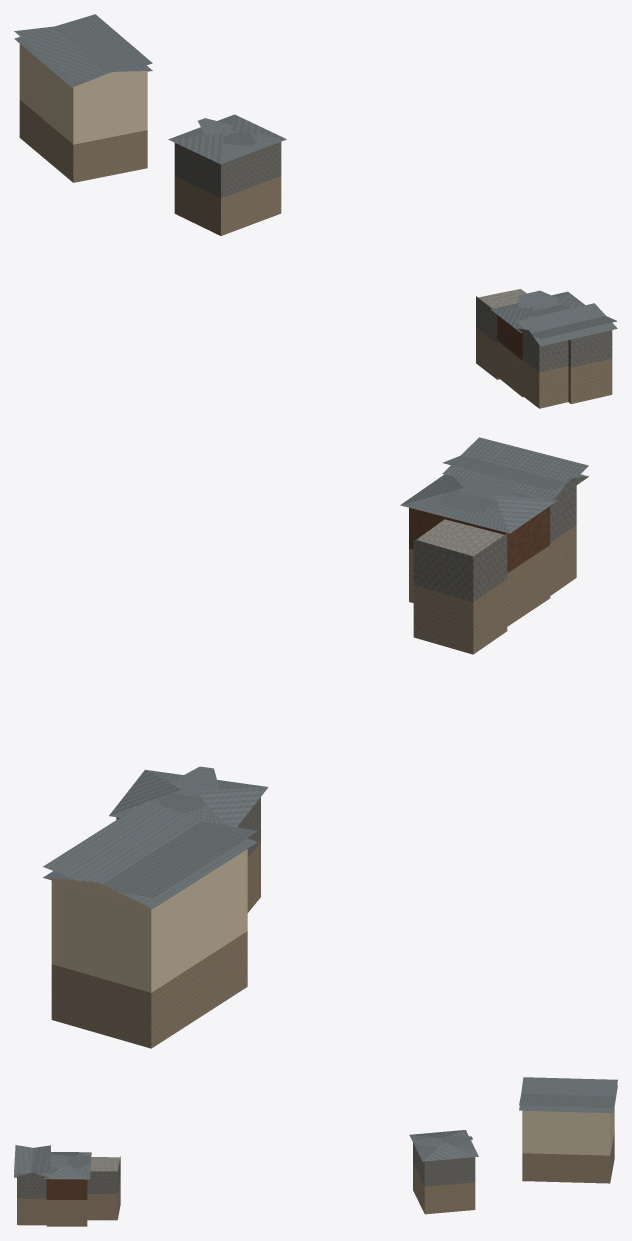
Rendered from bld_c33_-38_446.gltf.
3 views of the same model, one above another, from view 1: azimuth 30°, elevation 25°; view 2: azimuth 150°, elevation 25°; view 3: azimuth 270°, elevation 25° (orthographic). The views are drawn at different scales.
Parts seen in each view (by area): view 1: bld_c33_-38_446; view 2: bld_c33_-38_446; view 3: bld_c33_-38_446.
Part boxes in pixels (x1,y1,x2,y2): bld_c33_-38_446: [14, 14, 617, 408]; bld_c33_-38_446: [43, 437, 588, 1048]; bld_c33_-38_446: [14, 1077, 617, 1226].
Bounding box in the file's own units: 27.89 × 15.8 × 100.
Materials: 8 (8 with a texture image).
